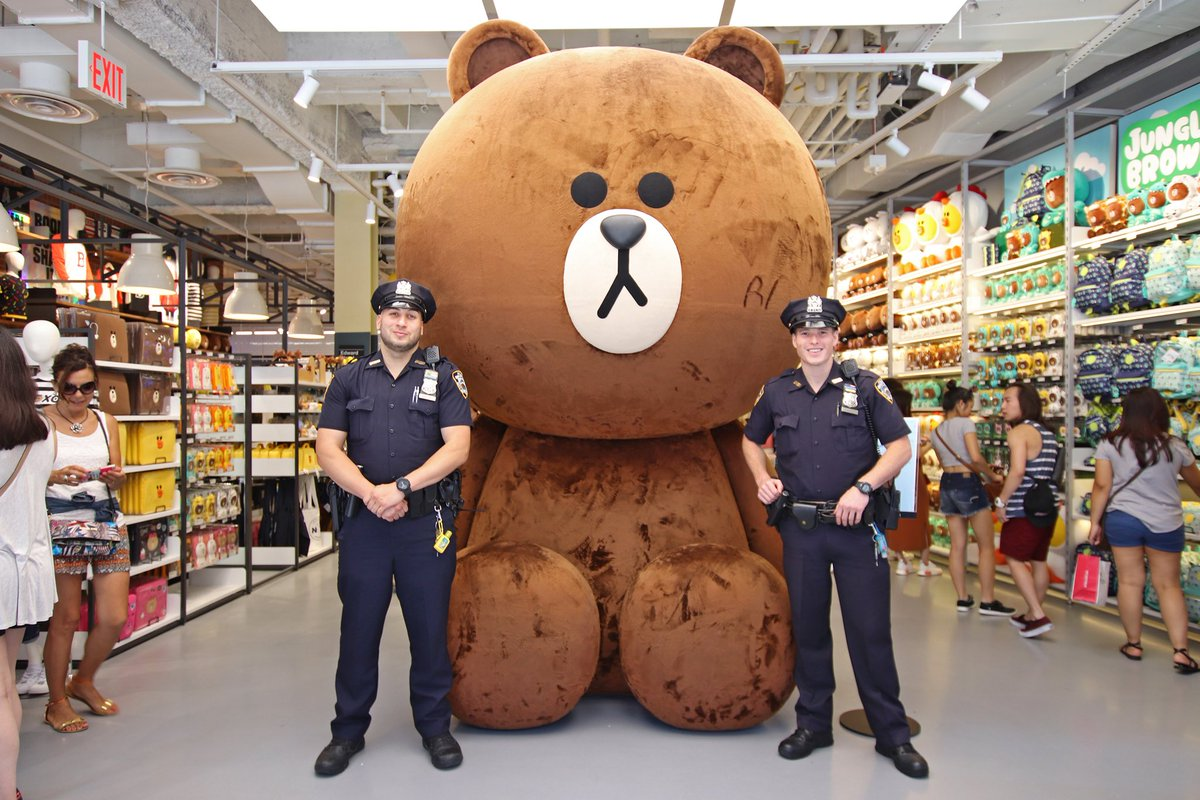line_brown: (376, 17, 850, 452)
